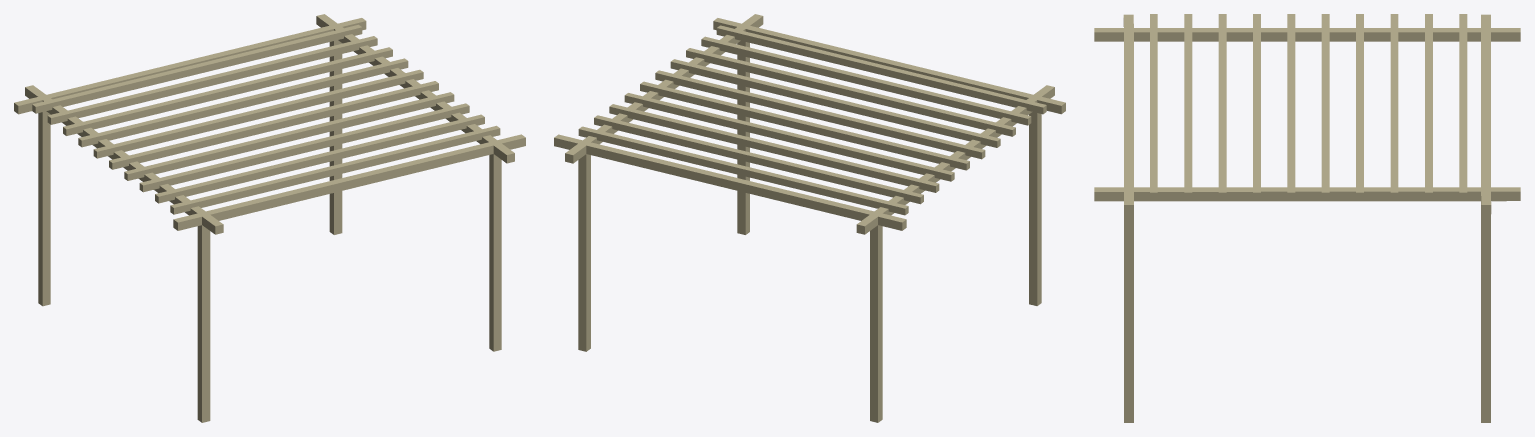
The model's file is pergola_low_poly.glb.
3 renders of one model, left to right at view 1: azimuth 30°, elevation 25°; view 2: azimuth 150°, elevation 25°; view 3: azimuth 270°, elevation 25°, orthographic. The views are drawn at different scales.
Visible parts, largest first — view 1: PERGOLA_0; view 2: PERGOLA_0; view 3: PERGOLA_0.
Boxes of the visible parts, box(x1,y1,x2,y2) form: PERGOLA_0: box(14, 14, 525, 422); PERGOLA_0: box(554, 14, 1065, 422); PERGOLA_0: box(1094, 14, 1520, 422).
Size of the model in its own units: 4.43 by 2.56 by 4.2.
